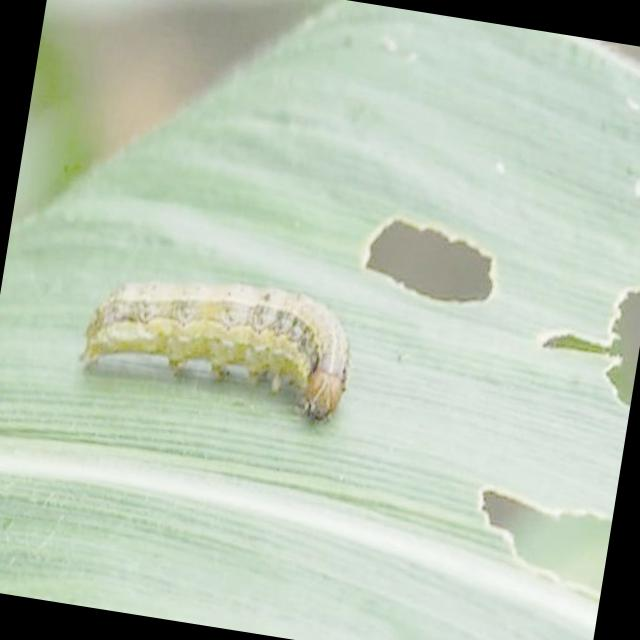pest: (67, 239, 377, 433)
